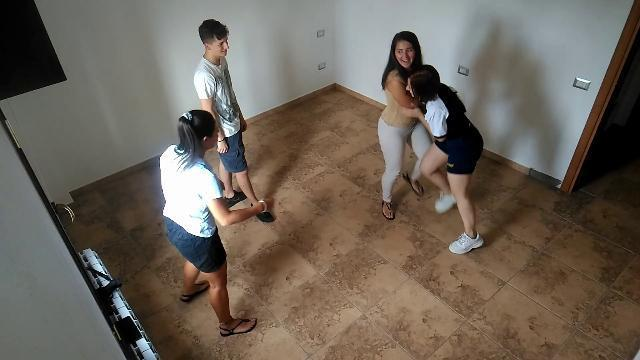non-violence: (156, 108, 278, 340), (191, 18, 277, 226)
violence: (381, 25, 487, 257)
